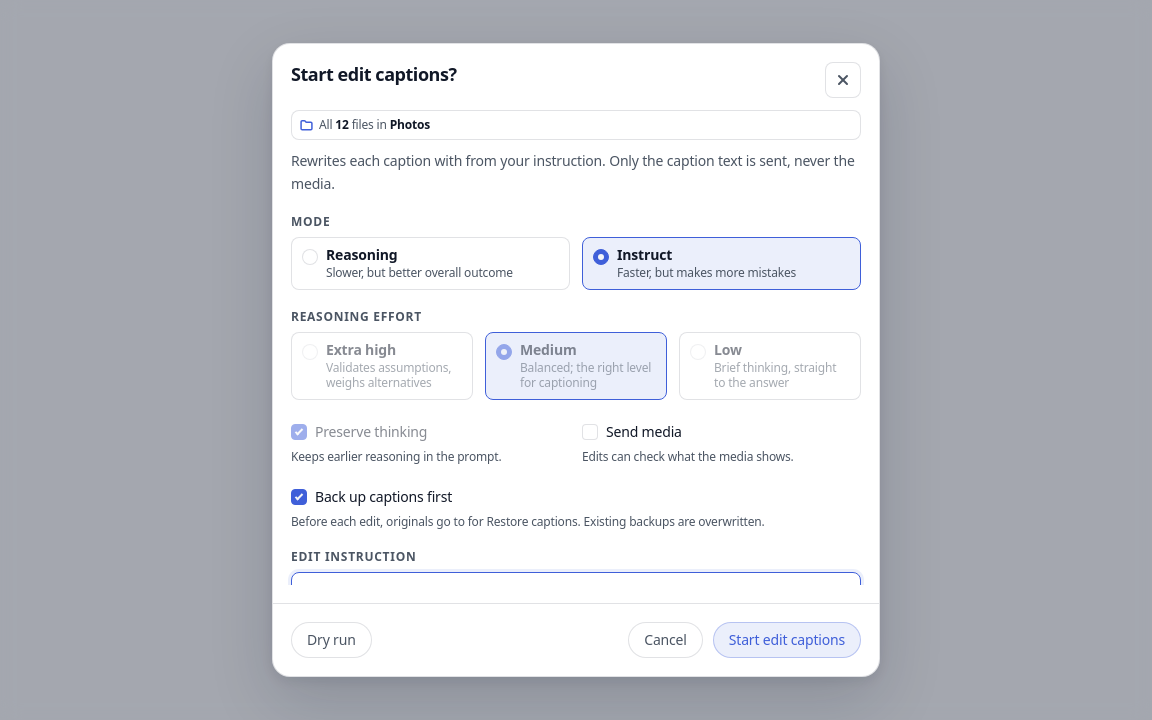
EditCaptionsDialog › refuses a blank instruction
Click the button "Start edit captions".
click(787, 640)  # box [713,622,861,658]
(page scrolled)
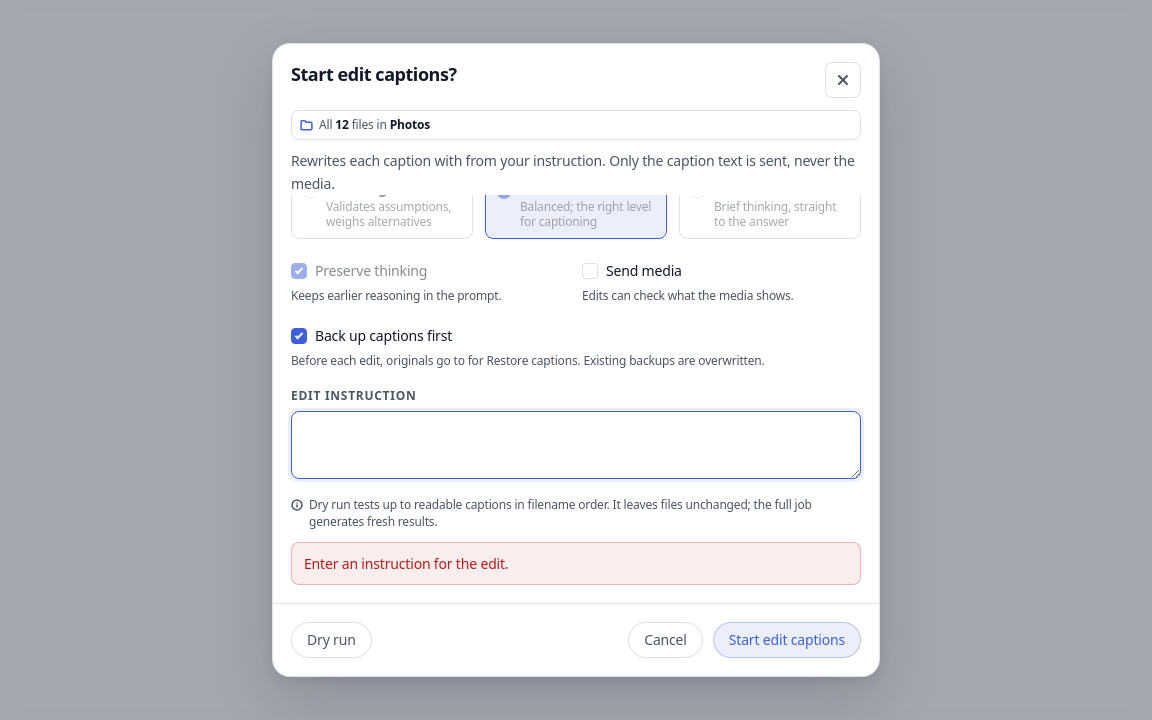
Check: the message reads "Enter an instruction for the edit.", box [304,554,508,573]
